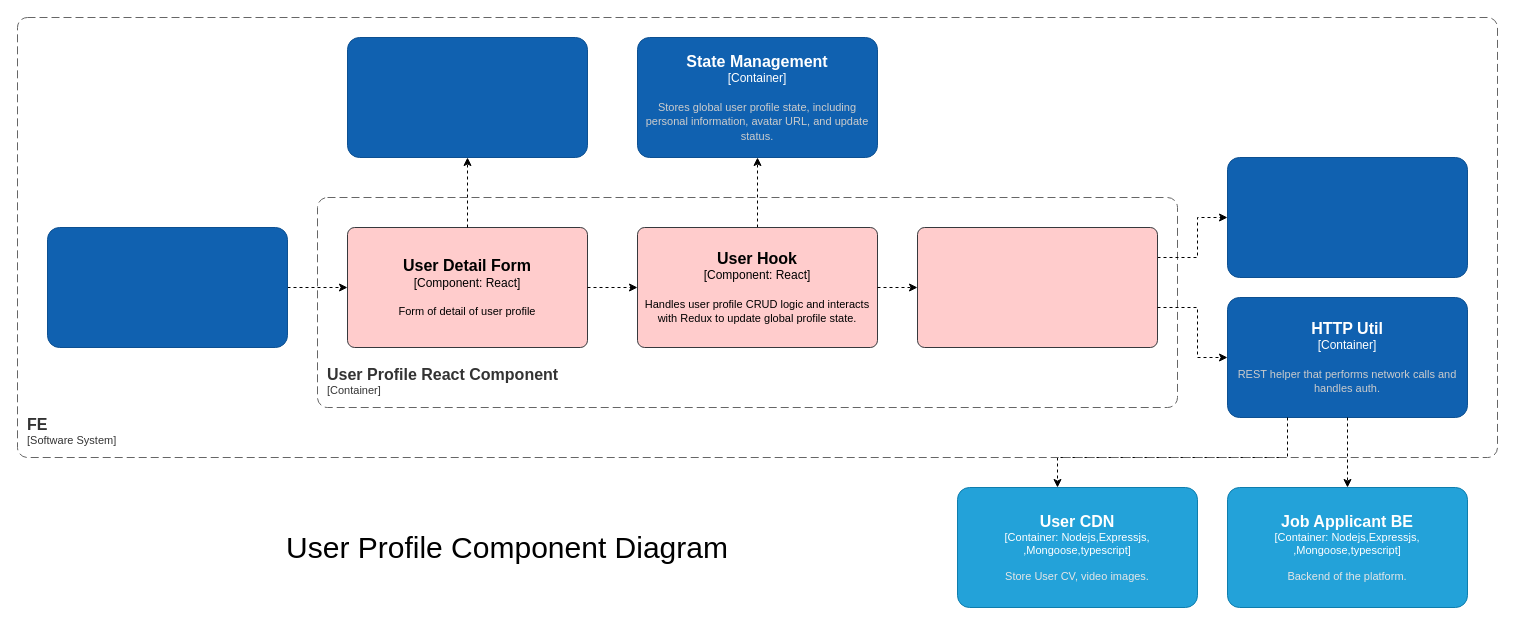
The diagram is 1515 pixels wide and 625 high, and some of its shapes have lost their labels. The box of each missing label's shape, as (x1, y1, x2, y2) in pixels:
Page [Container] Assemble components and manage page-level state.: (46, 226, 288, 348)
Reusable Component [Container] Atomic UI elements used by components of pages: (346, 36, 588, 158)
URL Config [Container] Global Configuration of Backend URLs.: (1226, 156, 1468, 278)
User Service [Component: React] CRUD the form: (916, 226, 1158, 348)
